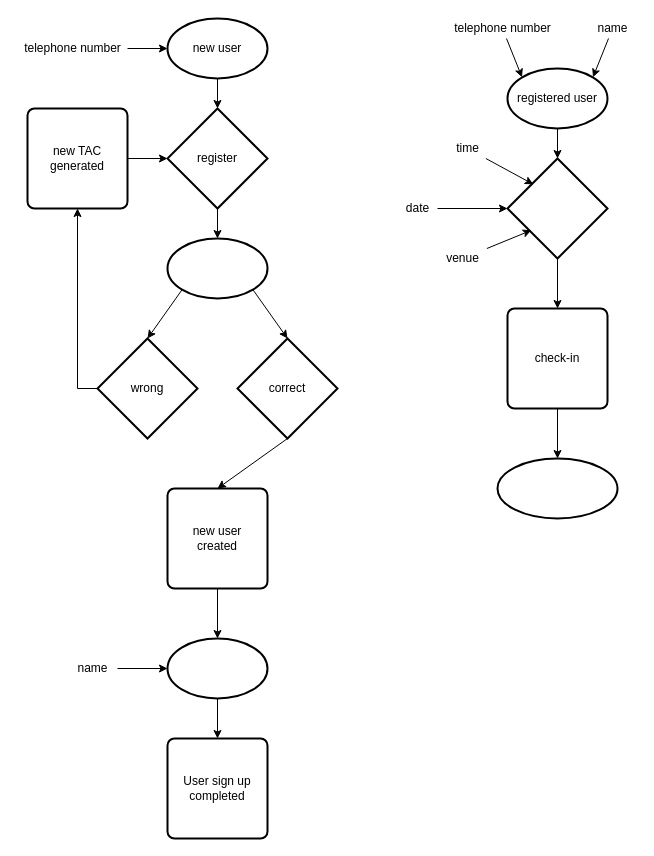
The diagram is 654 pixels wide and 856 high, and some of its shapes have lost their labels. Here are the shapes that lost their labels. From the top down, the box of each, then its label:
(506, 157, 608, 259): gather information
(166, 237, 268, 299): insert TAC
(496, 457, 618, 519): insert new row in database
(166, 637, 268, 699): insert profile
